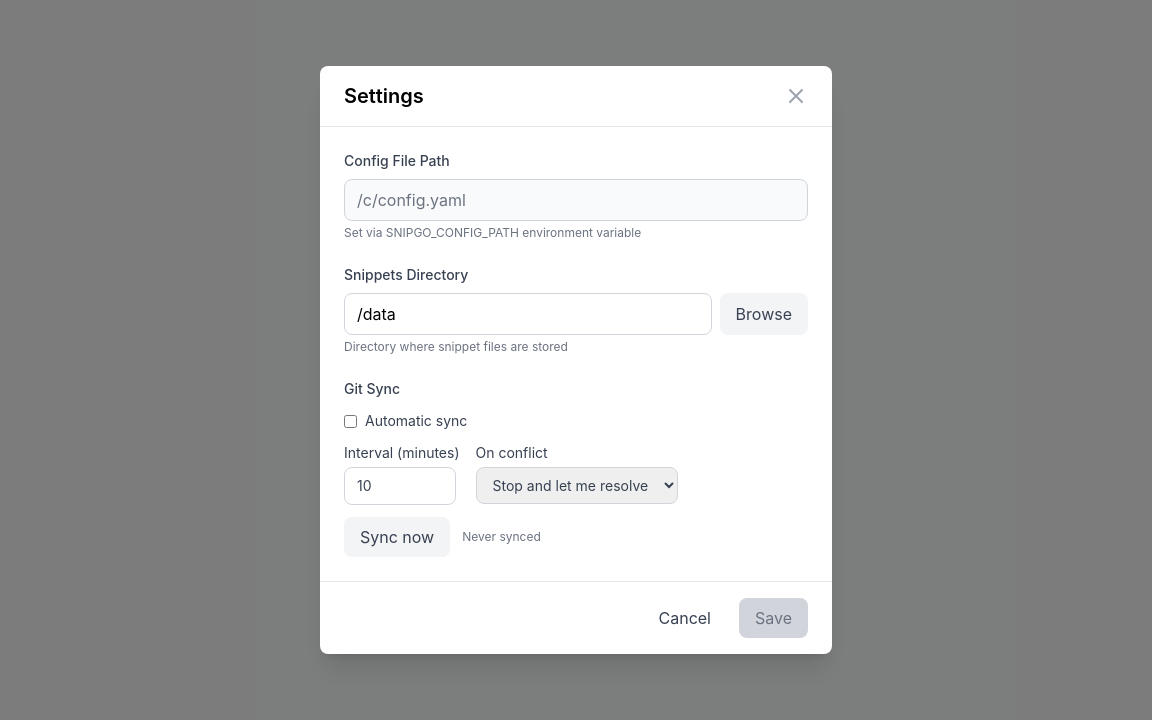
SettingsPage sync › runs sync now and shows the result
Step 1. Click the button "Sync now" → (397, 537), box [344, 517, 450, 557]
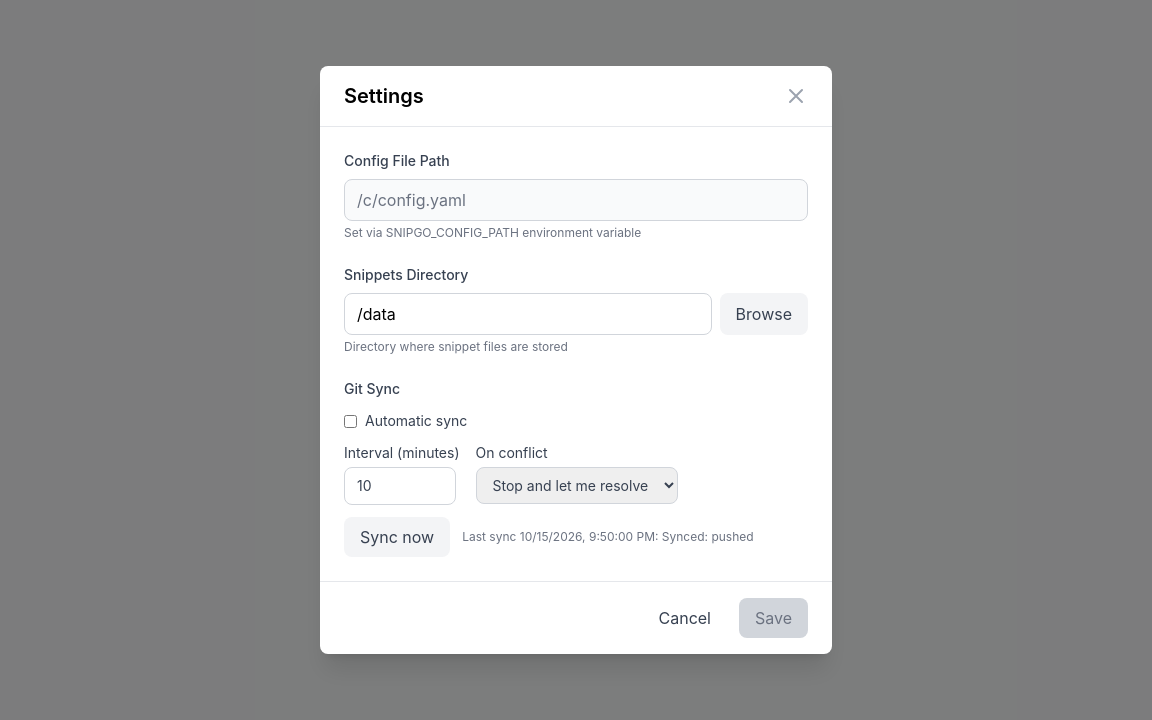
Expected: the text "Last sync 10/15/2026, 9:50:00 PM: Synced: pushed" is shown, [462, 529, 754, 544]
